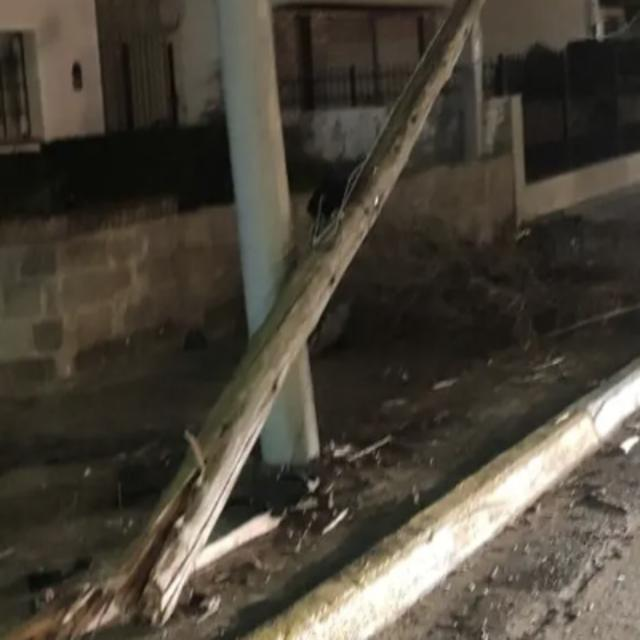Inclined Pole: (100, 0, 491, 626)
